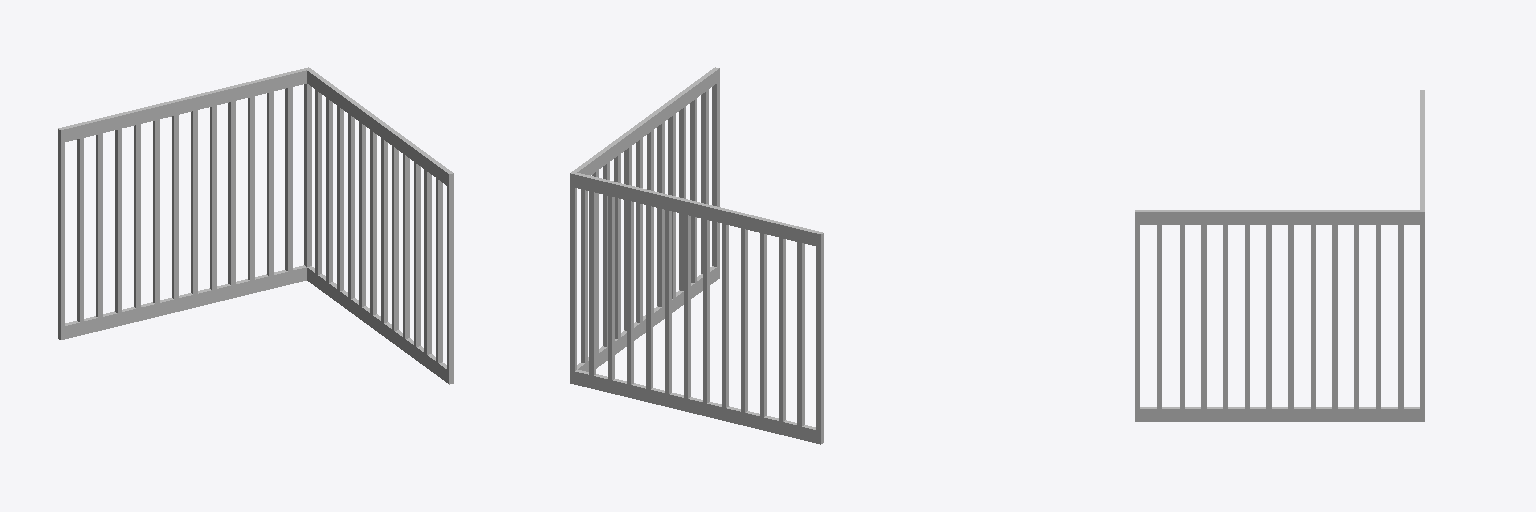
The model's file is crib.obj.
The picture shows the model from 3 angles: view 1: azimuth 30°, elevation 25°; view 2: azimuth 150°, elevation 25°; view 3: azimuth 270°, elevation 25°; orthographic projection.
Parts seen in each view (by area): view 1: obj.crib.000_Cylinder; view 2: obj.crib.000_Cylinder; view 3: obj.crib.000_Cylinder.
Part boxes in pixels (x1,y1,x2,y2): obj.crib.000_Cylinder: (58, 67, 453, 384); obj.crib.000_Cylinder: (570, 67, 823, 444); obj.crib.000_Cylinder: (1135, 90, 1424, 421).
Size of the model in its own units: 26.5 by 21.2 by 26.5.